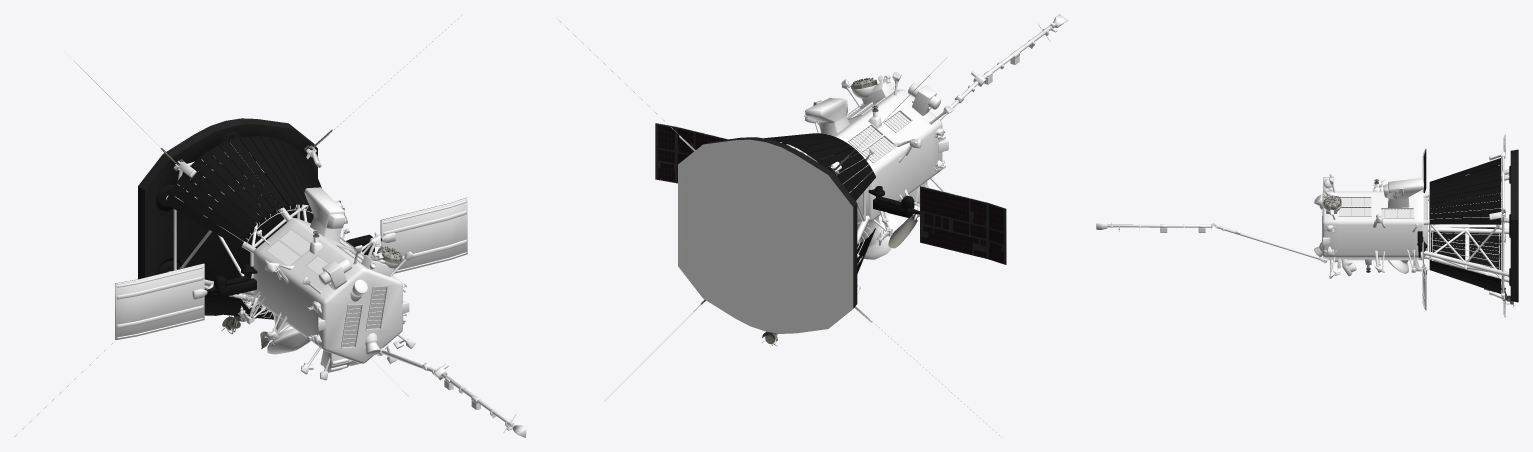
File: parker.glb
3 views of the same model, side by side, from view 1: azimuth 30°, elevation 25°; view 2: azimuth 150°, elevation 25°; view 3: azimuth 270°, elevation 25° (orthographic). The views are drawn at different scales.
Parts seen in each view (by area): view 1: BUS, CoolingSystem, Instruments, magnetometers, solarArray_arms, HGA; view 2: Instruments, BUS, CoolingSystem, magnetometers, solarArray_arms; view 3: BUS, CoolingSystem, Instruments, magnetometers.
Boxes of the visible parts, <box> form: BUS: <box>115,143,526,437</box>; CoolingSystem: <box>156,131,321,319</box>; Instruments: <box>115,118,466,348</box>; magnetometers: <box>14,14,516,436</box>; solarArray_arms: <box>206,234,381,297</box>; HGA: <box>267,331,310,354</box>; Instruments: <box>655,77,1006,346</box>; BUS: <box>656,14,1067,294</box>; CoolingSystem: <box>764,133,875,273</box>; magnetometers: <box>556,17,1050,437</box>; solarArray_arms: <box>868,186,919,217</box>; BUS: <box>1096,148,1509,310</box>; CoolingSystem: <box>1429,158,1510,293</box>; Instruments: <box>1323,134,1518,317</box>; magnetometers: <box>1118,165,1511,304</box>.
Size of the model in its own units: 5.75 by 5.26 by 6.61.
7 materials, 2 textured.
